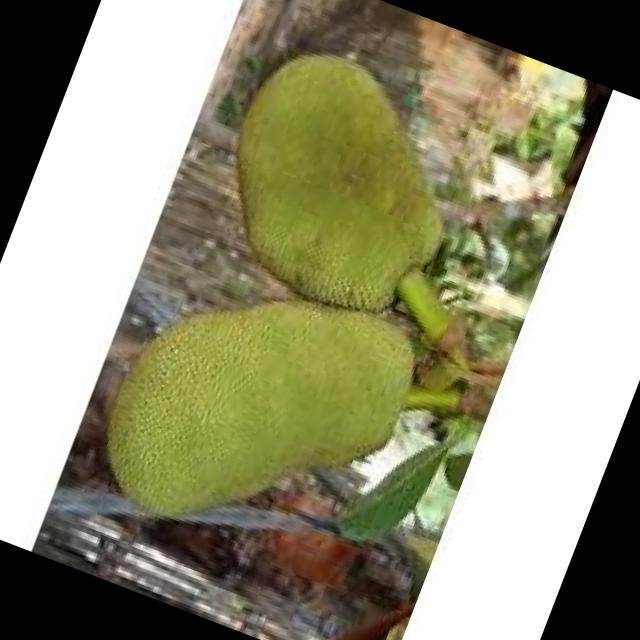Fruit: (60, 222, 452, 610), (172, 7, 509, 352)
